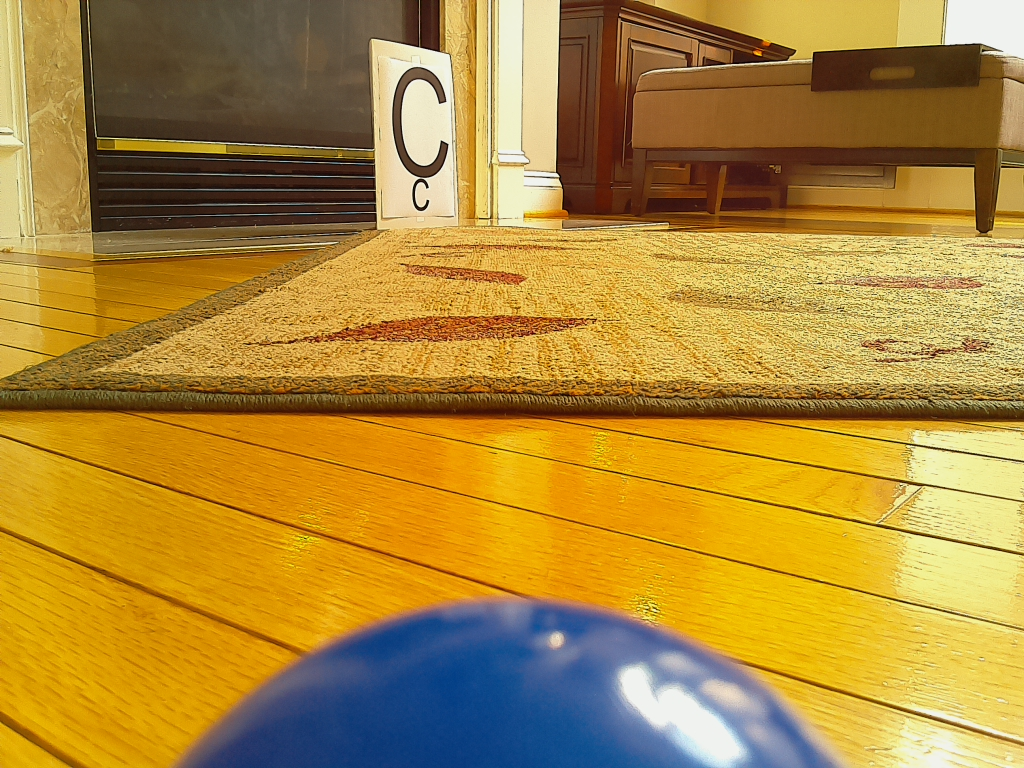letter: (393, 68, 448, 178)
